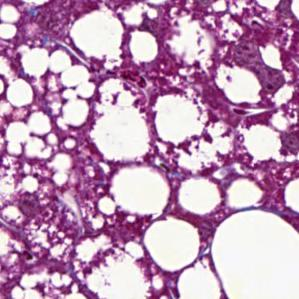steatosis: (140, 220, 207, 268), (109, 169, 171, 213), (180, 178, 221, 214)
